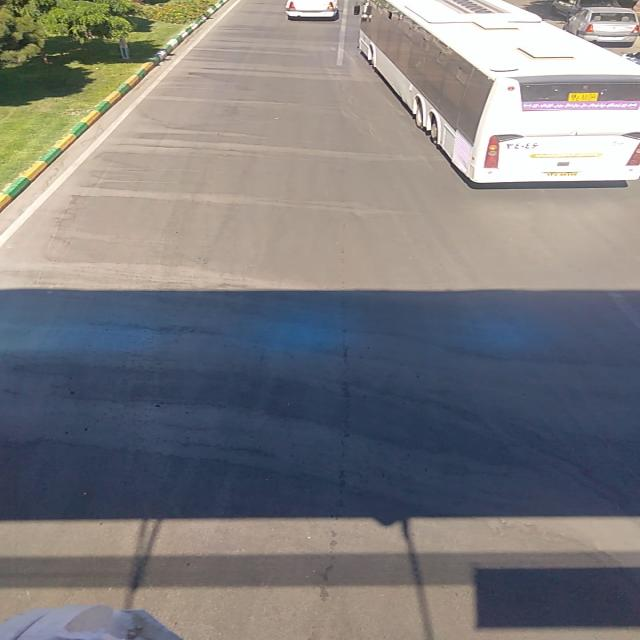bus: (348, 2, 638, 182)
car: (562, 9, 637, 43), (281, 0, 340, 19)
